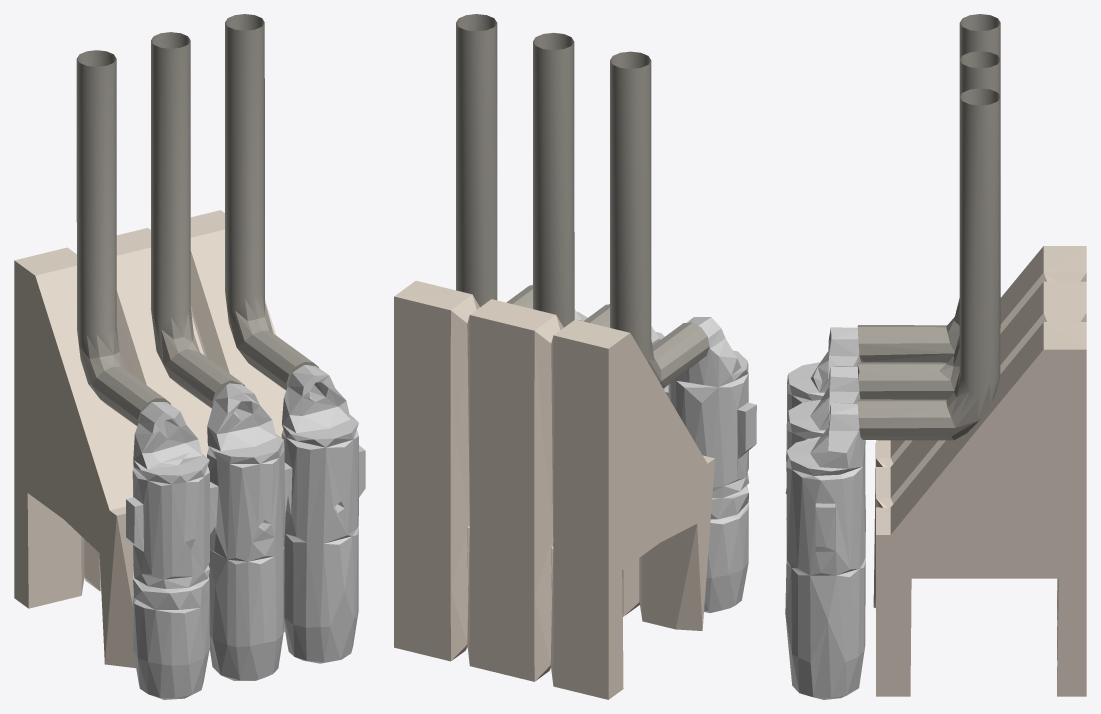
File: pipe_connector_capsules.fbx
3 views of the same model, side by side, from view 1: azimuth 30°, elevation 25°; view 2: azimuth 150°, elevation 25°; view 3: azimuth 270°, elevation 25° (orthographic). The views are drawn at different scales.
Visible parts, largest first — view 1: pipe_connector_capsules; view 2: pipe_connector_capsules; view 3: pipe_connector_capsules.
Boxes of the visible parts, x1,y1,x2,y2 form: pipe_connector_capsules: (14,14,365,699); pipe_connector_capsules: (394,14,756,699); pipe_connector_capsules: (785,14,1086,699).
Bounding box in the file's own units: 115 × 272 × 125.
